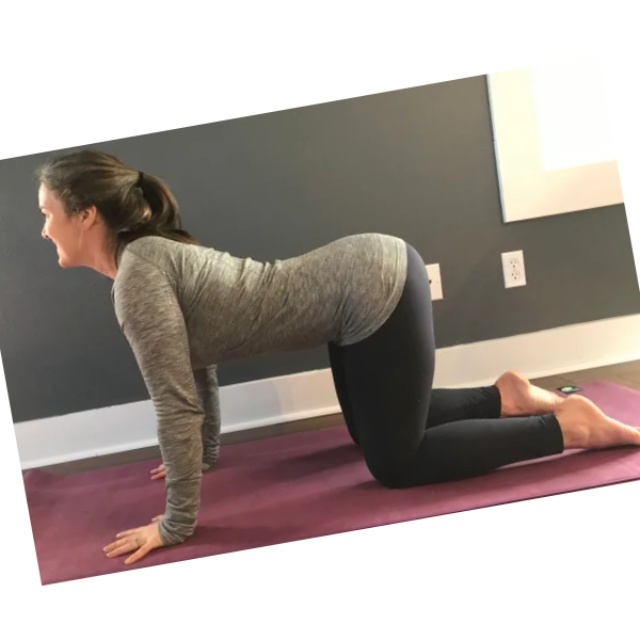Cow_Pose: (38, 147, 636, 568)
